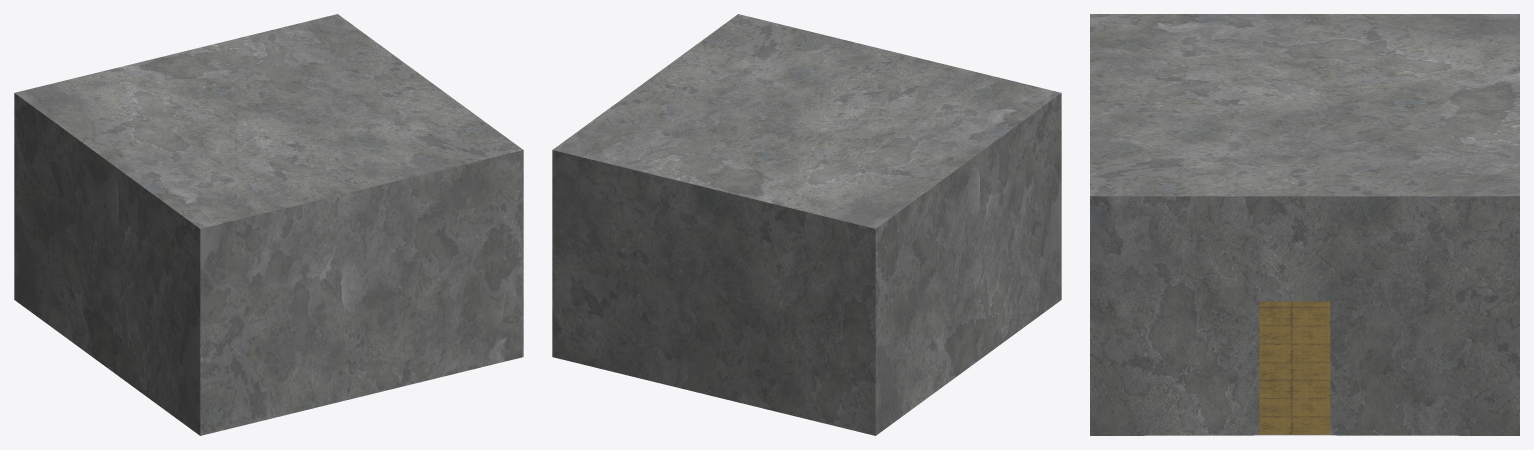
File: room_test.obj
The picture shows the model from 3 angles, left to right: view 1: azimuth 30°, elevation 25°; view 2: azimuth 150°, elevation 25°; view 3: azimuth 270°, elevation 25°; orthographic projection. The views are drawn at different scales.
Parts seen in each view (by area): view 1: Cube.001_Cube.003; view 2: Cube.001_Cube.003; view 3: Cube.001_Cube.003.
Boxes of the visible parts, <box> form: Cube.001_Cube.003: <box>14,14,523,435</box>; Cube.001_Cube.003: <box>552,14,1061,435</box>; Cube.001_Cube.003: <box>1090,14,1519,435</box>.
Size of the model in its own units: 5.75 by 3.52 by 5.73.
